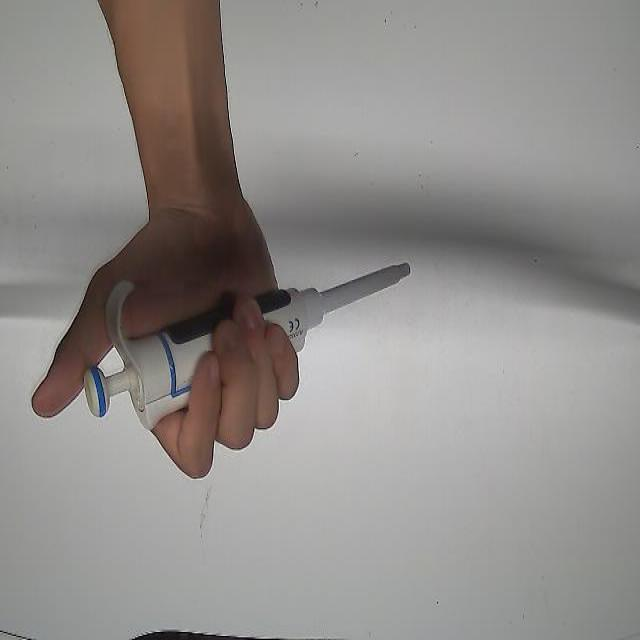Single Channel Pipettor: (78, 258, 413, 434)
